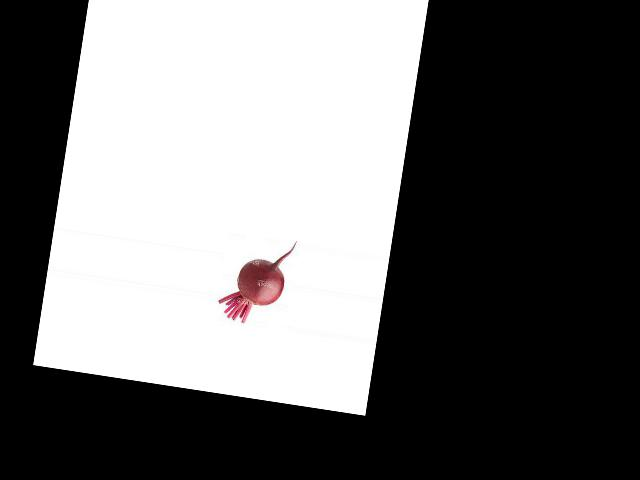beet: (215, 231, 297, 329)
